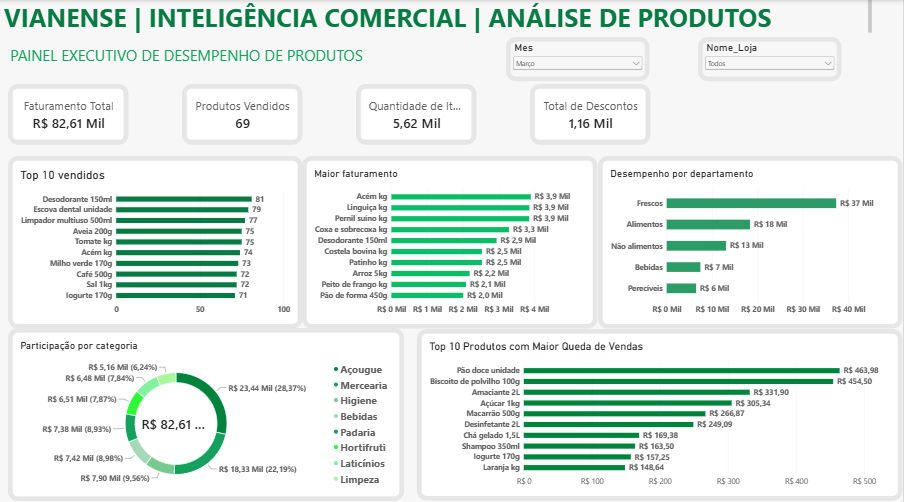

The page's visual inventory and layout, read from the dashboard file:
{"tool":"powerbi","page":{"name":"02 - Análise de Produtos","canvas":[1920,1080],"ordinal":1},"visuals":[{"type":"textbox","box":[10.6,0,1845.4,78.7],"z":0},{"type":"textbox","box":[10.8,78.2,787.4,105.2],"z":1000},{"type":"slicer","fields":{"Values":["tb_Calendario.Mes"]},"box":[1078.7,78.2,304.7,94.4],"z":2000},{"type":"slicer","fields":{"Values":["tb_Lojas.Nome_Loja"]},"box":[1485.8,78.2,304.7,94.4],"z":3000},{"type":"cardVisual","fields":{"Data":["tb_Vendas.Faturamento Total"]},"box":[19.7,178,256.2,129.4],"z":4000},{"type":"cardVisual","fields":{"Data":["tb_Vendas.Quantidade de Itens"]},"box":[758.7,178,256,129],"z":5000},{"type":"cardVisual","fields":{"Data":["tb_Vendas.Total de Descontos"]},"box":[1128.1,178,256,129],"z":6000},{"type":"cardVisual","fields":{"Data":["tb_Vendas.Produtos Vendidos"]},"box":[389.3,178,256,129],"z":7000},{"type":"barChart","title":"Top 10 vendidos","fields":{"Category":["tb_Produtos.Produto"],"Y":["tb_Vendas.Quantidade de Vendas"]},"box":[19.1,331.7,625,367.8],"z":8000},{"type":"barChart","title":"Maior faturamento","fields":{"Category":["tb_Produtos.Produto"],"Y":["tb_Vendas.Faturamento Total"]},"box":[644.5,331.7,628.3,366.7],"z":9000},{"type":"barChart","title":"Desempenho por departamento","fields":{"Category":["tb_Produtos.Departamento"],"Y":["tb_Vendas.Faturamento Total"]},"box":[1273.5,331.7,631.4,367.8],"z":10000},{"type":"donutChart","title":"Participação por categoria","fields":{"Category":["tb_Produtos.Categoria"],"Y":["tb_Vendas.Faturamento Total"]},"box":[19.1,697.3,867.4,367.8],"z":11000},{"type":"clusteredBarChart","title":"Top 10 Produtos com Maior Queda de Vendas","fields":{"Category":["tb_Produtos.Produto"],"Y":["tb_Vendas.Perda de Faturamento (R$)"]},"box":[888.7,699.4,1016.2,365.7],"z":12000}]}

Visuals, with their boxes in screenshot pixels (x1, y1, x2, y2), scaled from the page's 1920x1080 canvas onto the 904x502 screenshot:
textbox: [x1=5, y1=0, x2=874, y2=37]
textbox: [x1=5, y1=36, x2=376, y2=85]
slicer - tb_Calendario.Mes: [x1=508, y1=36, x2=651, y2=80]
slicer - tb_Lojas.Nome_Loja: [x1=700, y1=36, x2=843, y2=80]
cardVisual - tb_Vendas.Faturamento Total: [x1=9, y1=83, x2=130, y2=143]
cardVisual - tb_Vendas.Quantidade de Itens: [x1=357, y1=83, x2=478, y2=143]
cardVisual - tb_Vendas.Total de Descontos: [x1=531, y1=83, x2=652, y2=143]
cardVisual - tb_Vendas.Produtos Vendidos: [x1=183, y1=83, x2=304, y2=143]
"Top 10 vendidos" barChart: [x1=9, y1=154, x2=303, y2=325]
"Maior faturamento" barChart: [x1=303, y1=154, x2=599, y2=325]
"Desempenho por departamento" barChart: [x1=600, y1=154, x2=897, y2=325]
"Participação por categoria" donutChart: [x1=9, y1=324, x2=417, y2=495]
"Top 10 Produtos com Maior Queda de Vendas" clusteredBarChart: [x1=418, y1=325, x2=897, y2=495]
